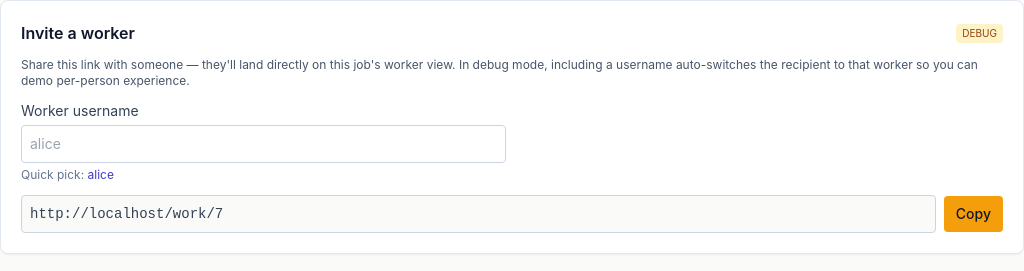
Test: InviteWorkerLink › quick-pick buttons set the username
Expected: the field with placeholder "alice" is shown, left=21, top=125, right=506, bottom=163
Click the button "alice". click: (101, 175)
box: left=88, top=167, right=114, bottom=183
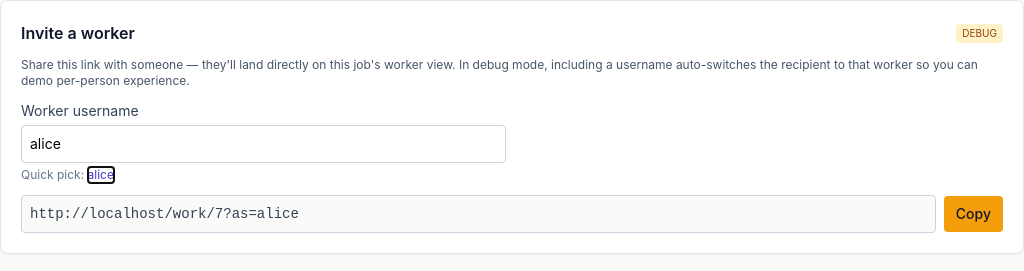
Result: the field showing "/work/7?as=alice" is shown at left=21, top=195, right=936, bottom=233
